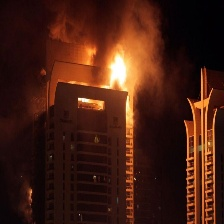fire: (107, 52, 126, 88), (124, 96, 133, 115), (79, 96, 98, 104)
smoke: (56, 5, 170, 83)
